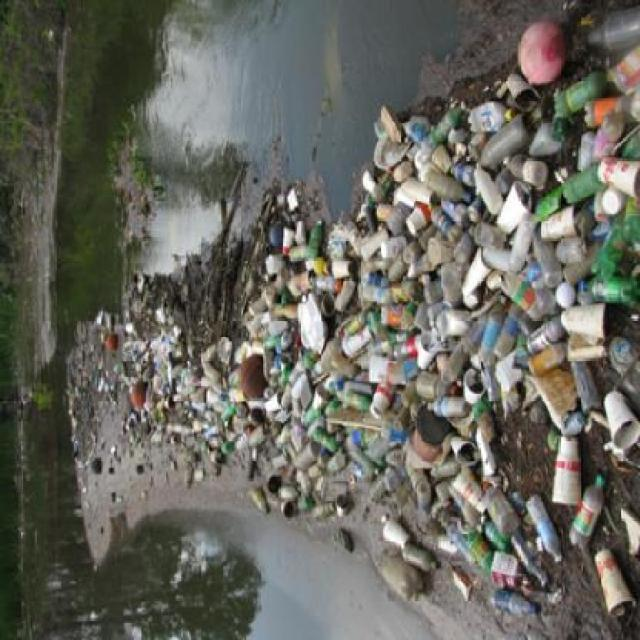garbage: (377, 67, 637, 616), (99, 256, 560, 542)
